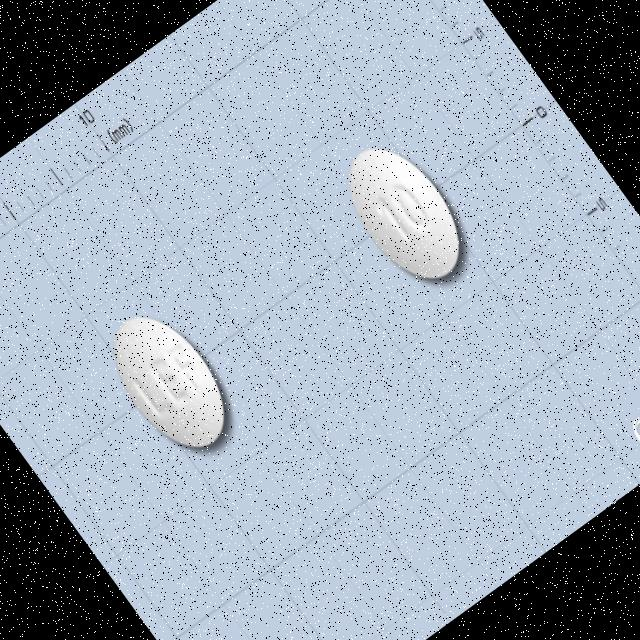R-A Tab: (90, 295, 248, 468), (324, 126, 482, 299)
